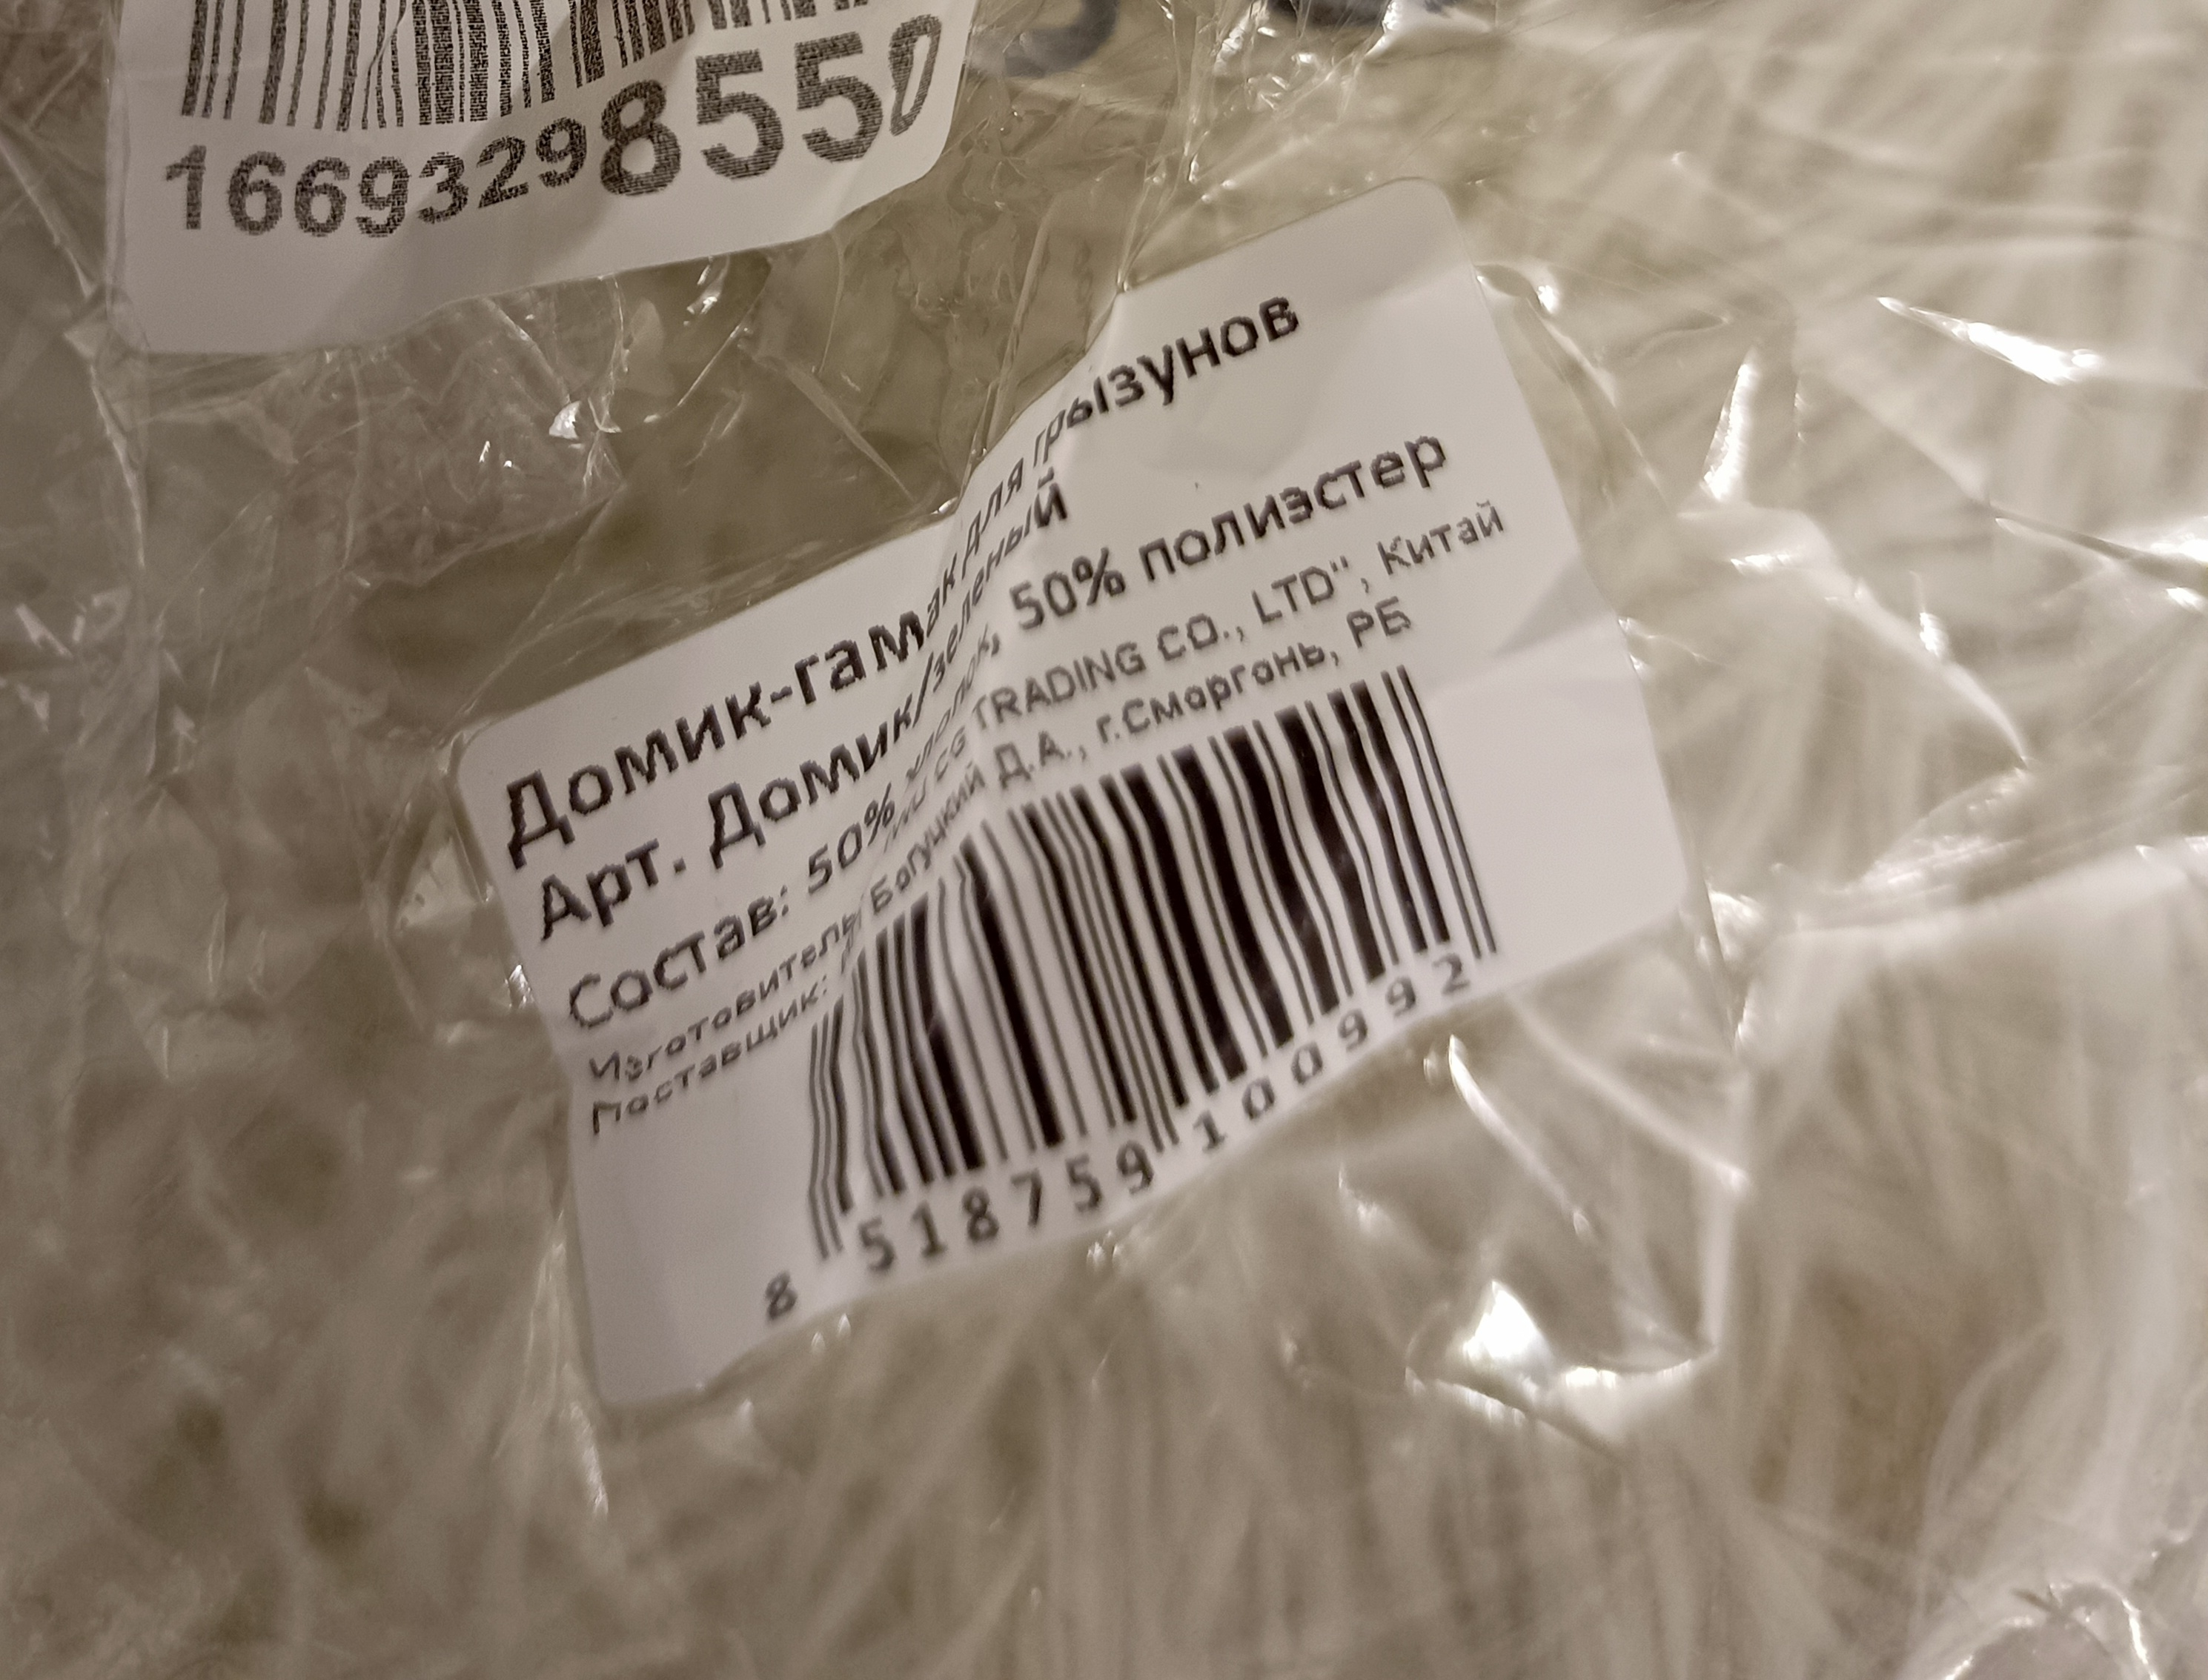1d: (798, 655, 1497, 1232)
